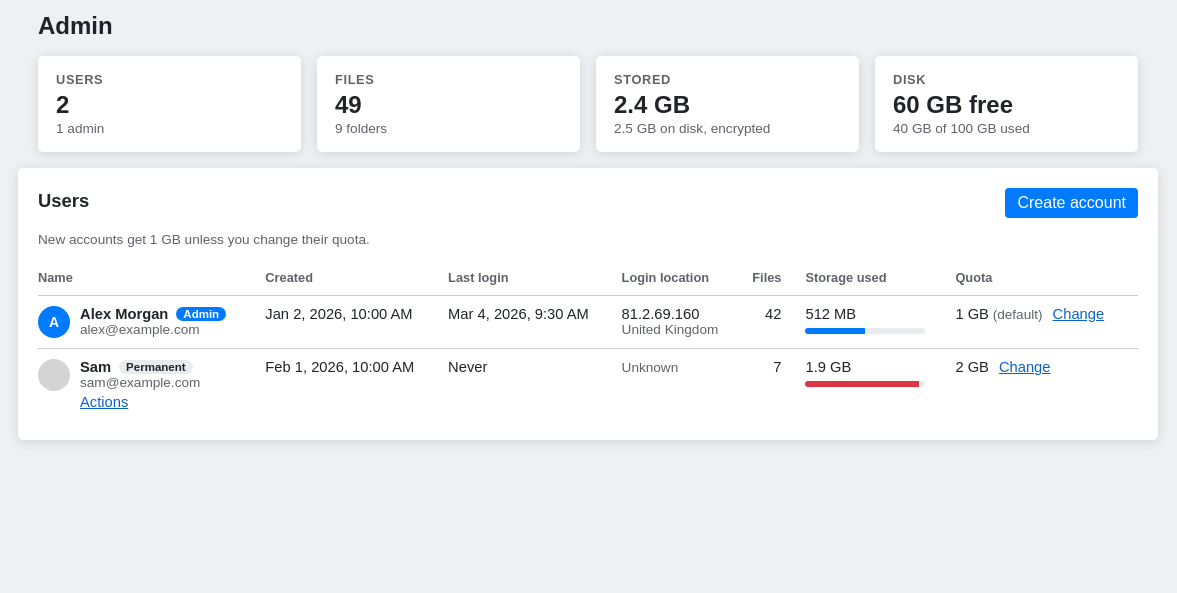
Test: Admin page › row actions › toggles the menu from its own button
Click the button with aria-label "Actions for sam@example.com" at (104, 402), box [80,394,128,410]
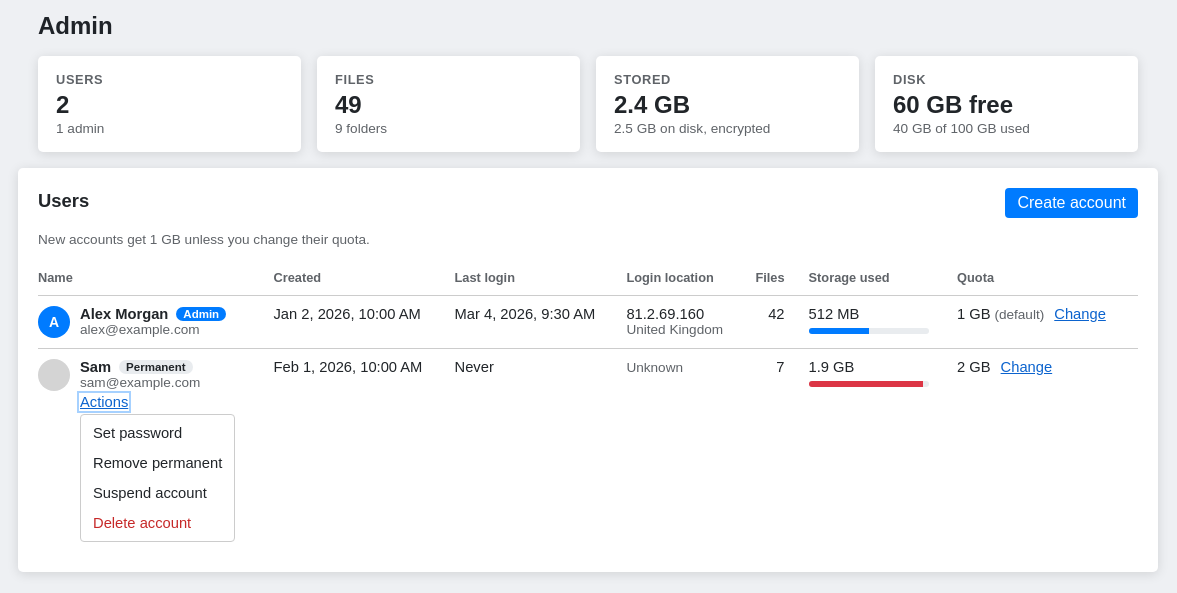
Click the button with aria-label "Actions for sam@example.com" at (104, 402), box [80,394,128,410]
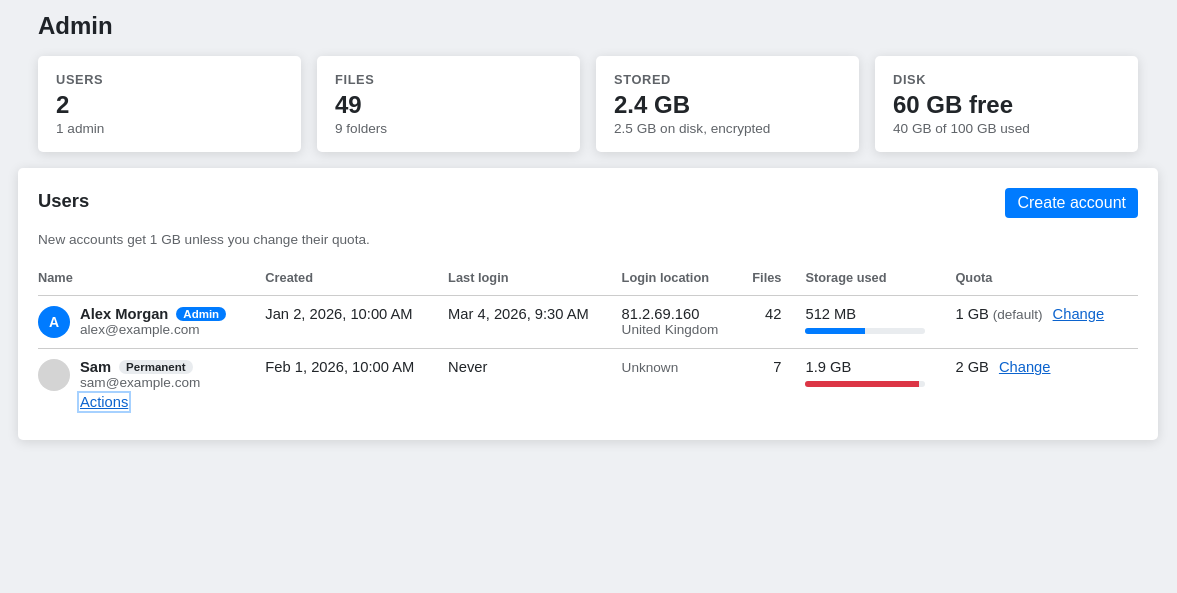
Check: the menu is gone
